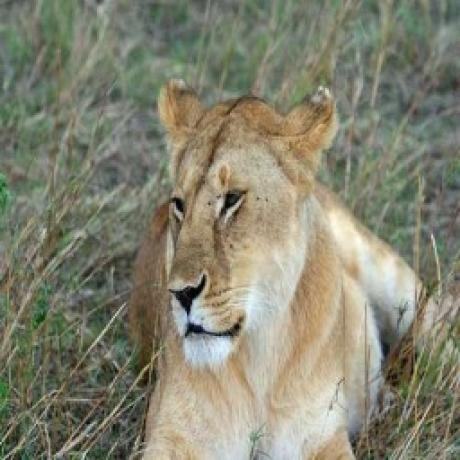Lion: (128, 76, 445, 460)
